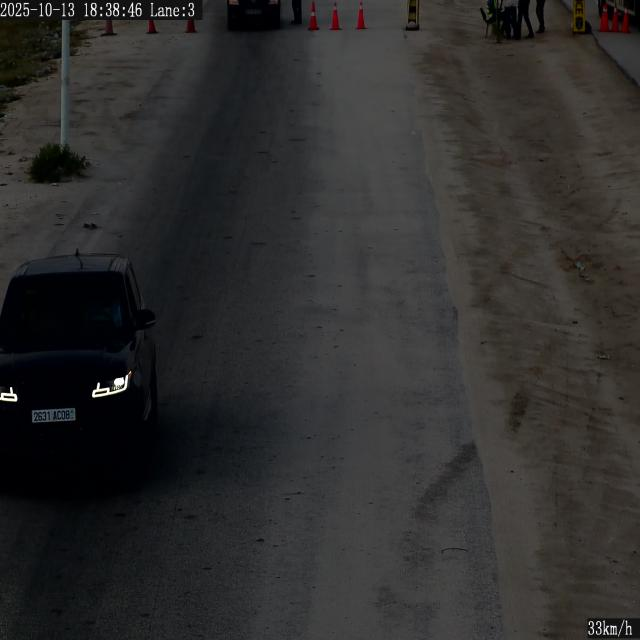BUS: (32, 409, 75, 422), (246, 10, 261, 14)
